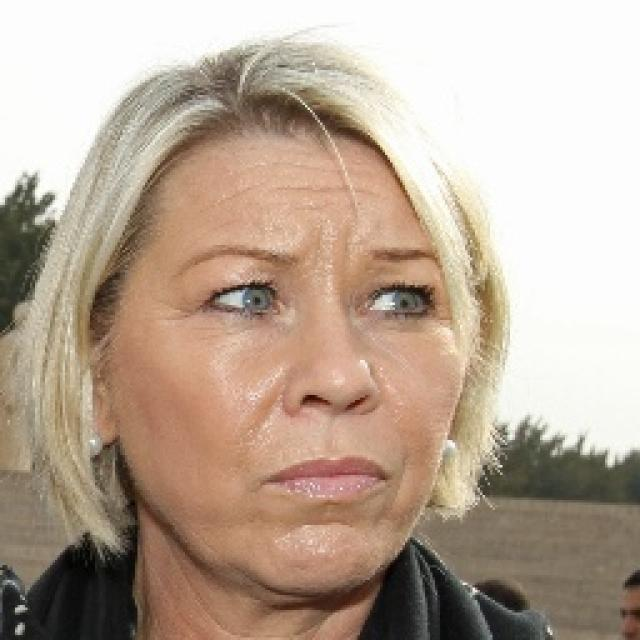earlobe: (84, 400, 118, 445)
eye: (214, 280, 279, 315), (364, 282, 436, 313)
nose: (285, 392, 374, 446)
